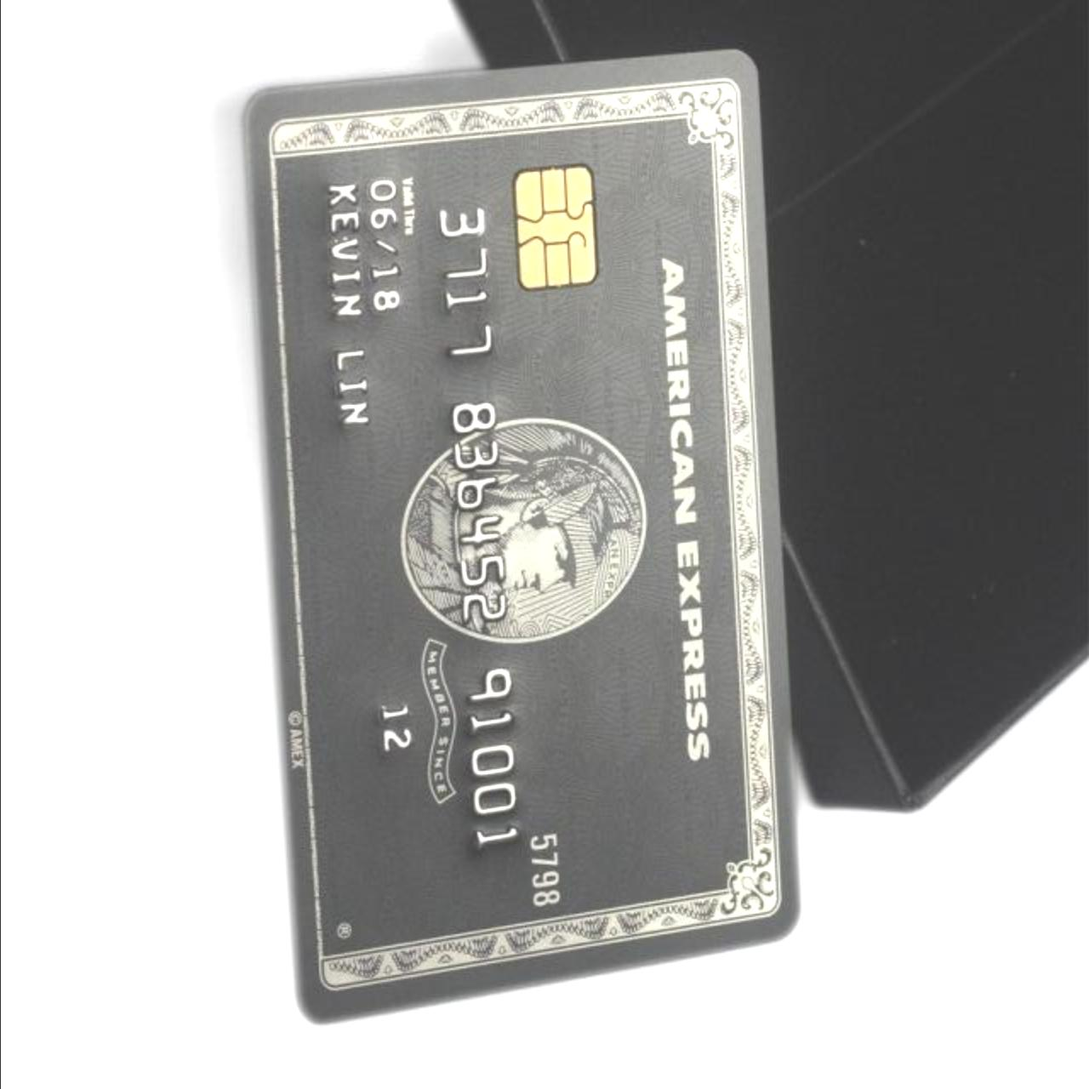credit_card: (228, 37, 769, 1045)
